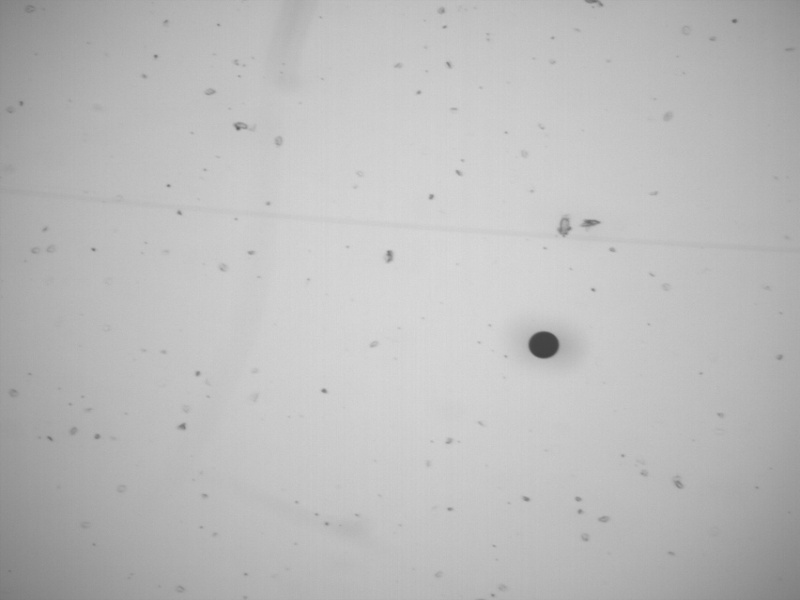bead: (527, 330, 560, 361)
